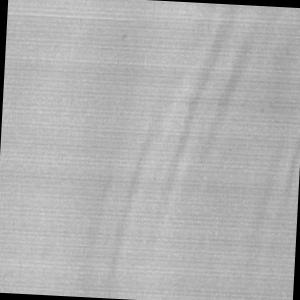Wrinkle: (108, 1, 255, 300), (251, 145, 300, 300)
